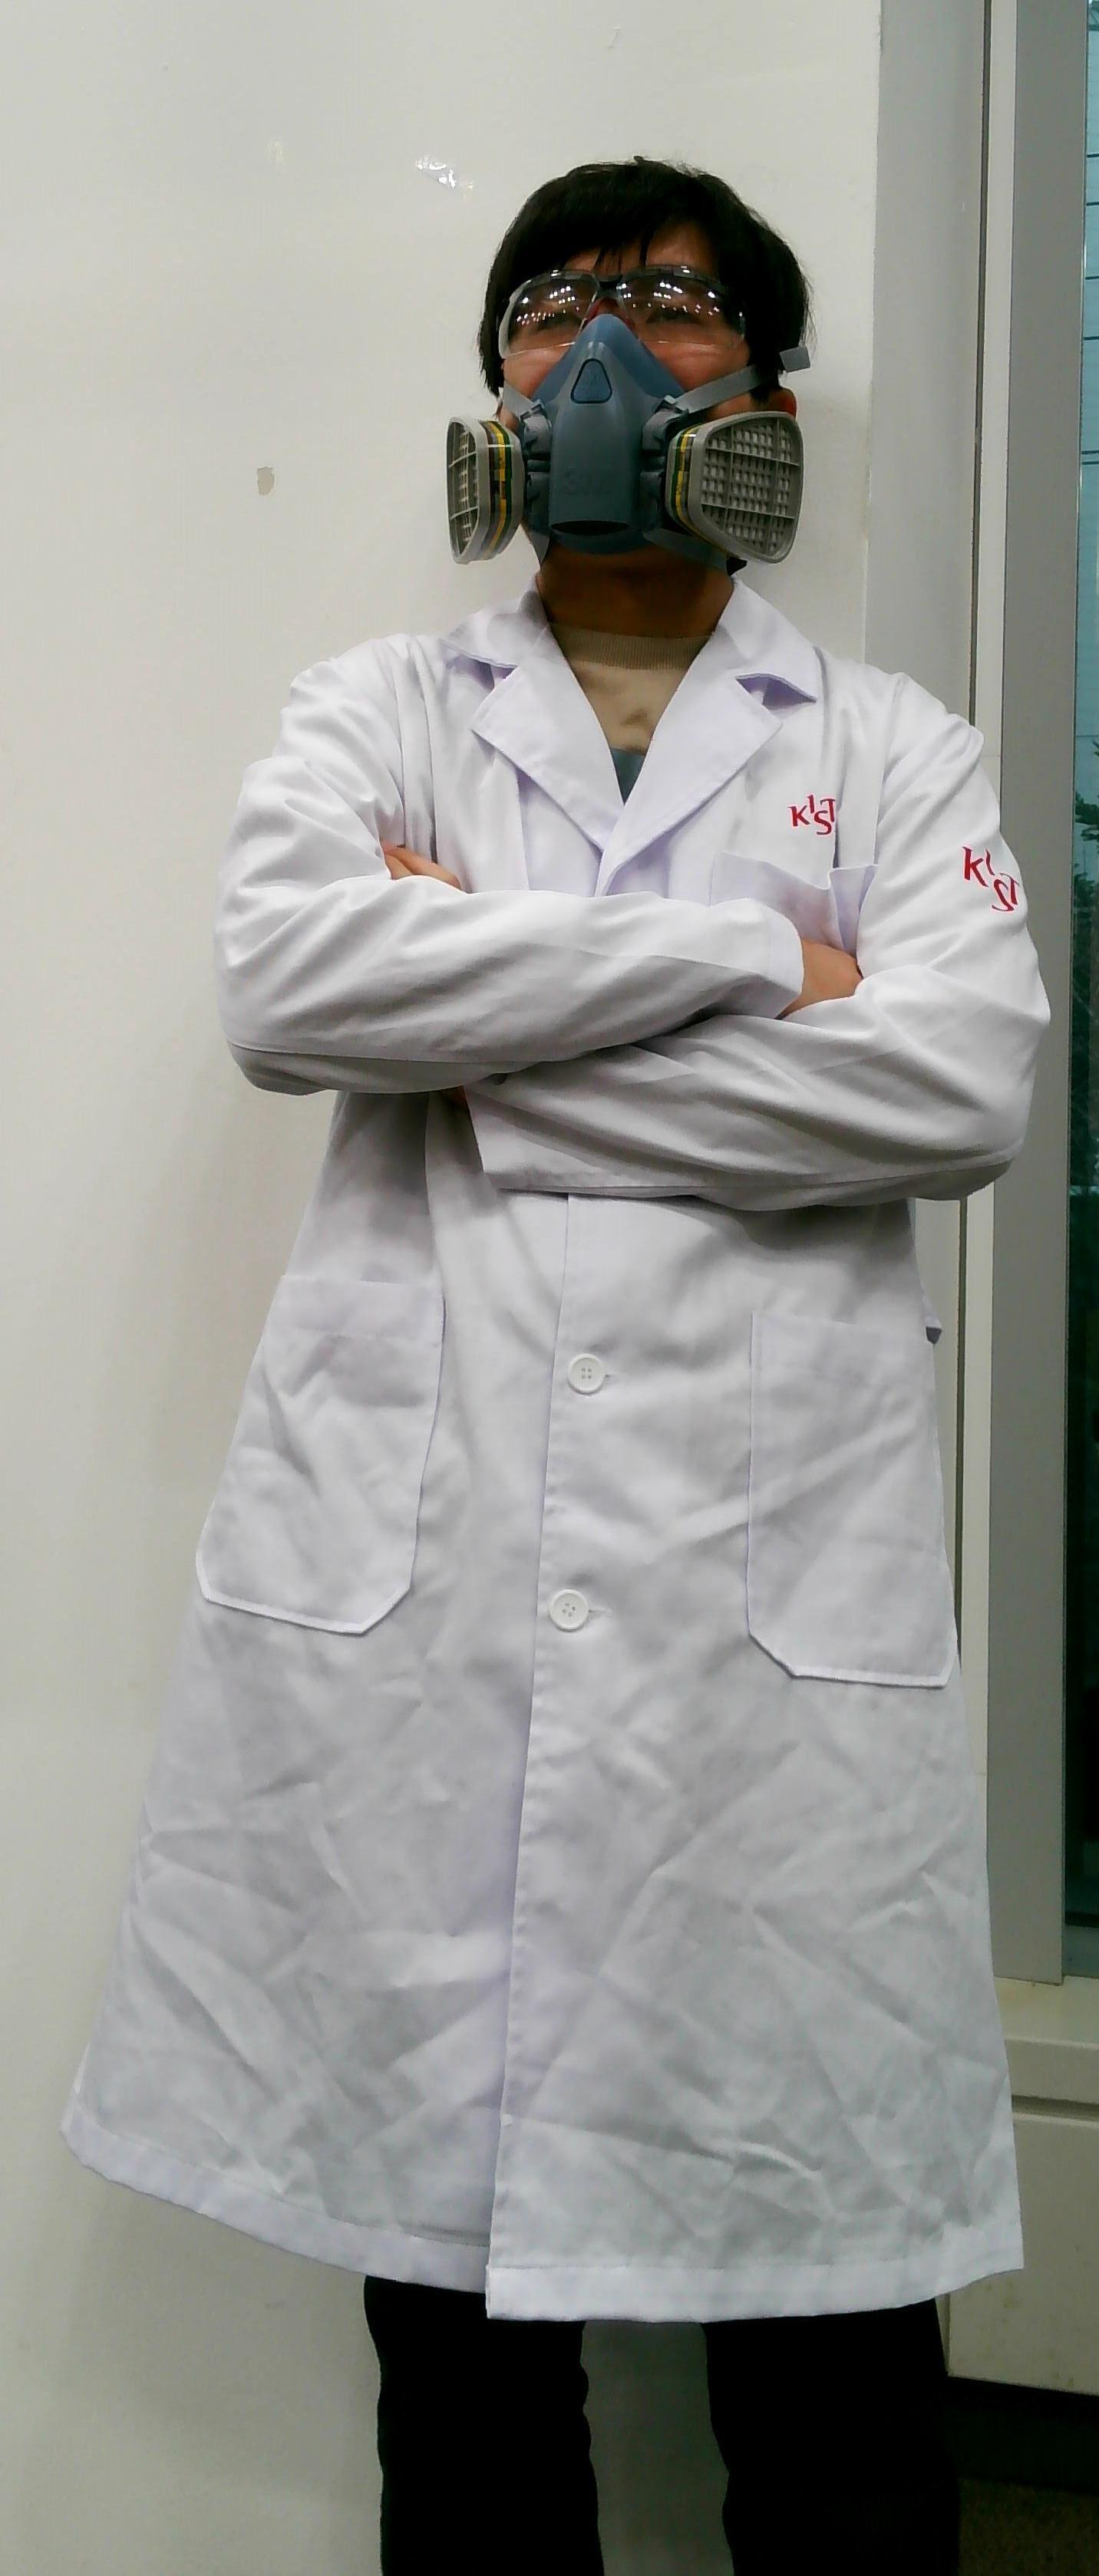lab_coat: (85, 677, 1089, 2302)
